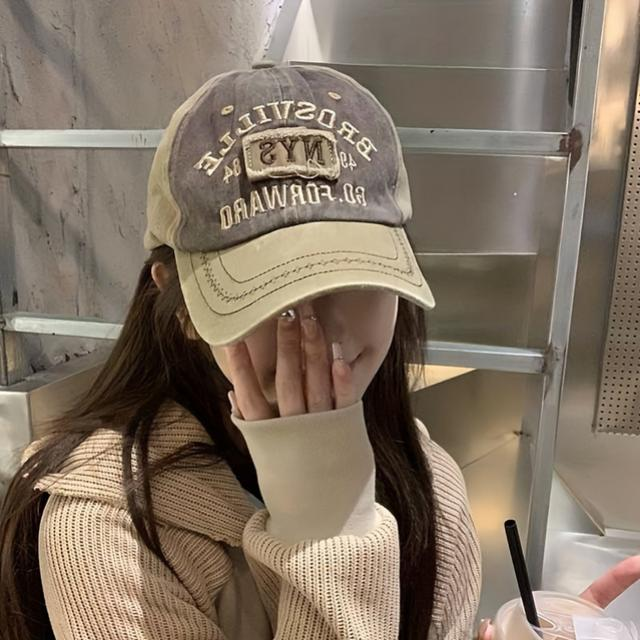no_helmet: (138, 55, 441, 356)
